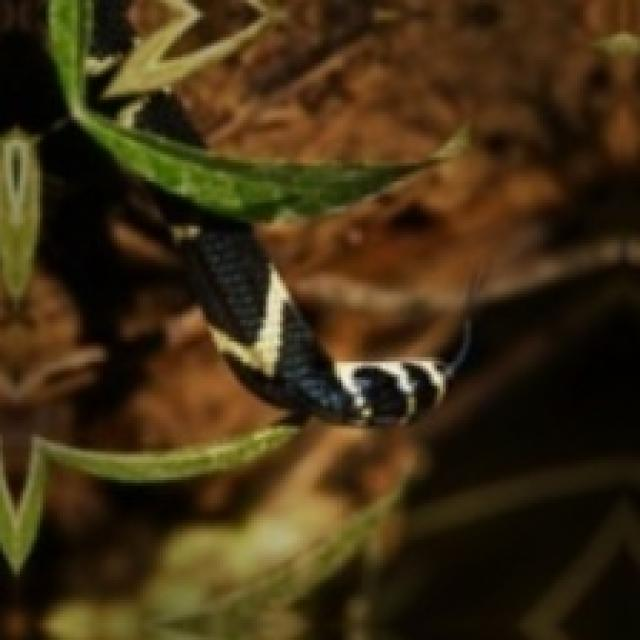king cobra: (137, 149, 443, 420), (86, 0, 391, 149), (400, 240, 469, 354)
